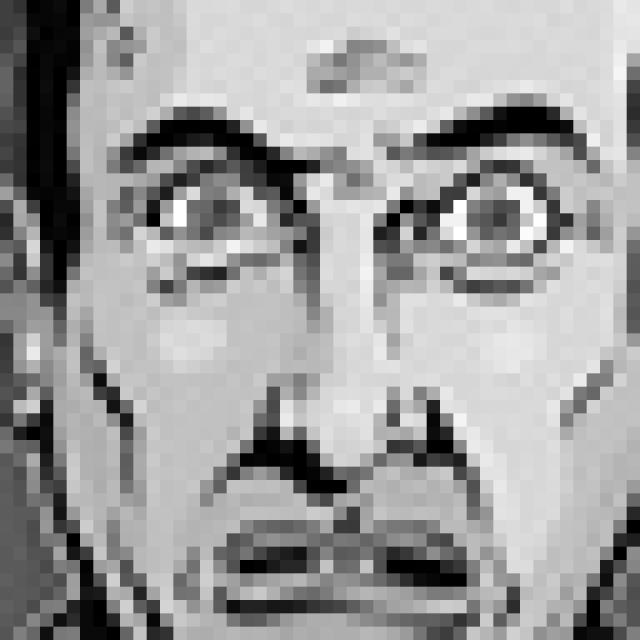disgust: (107, 103, 606, 634)
